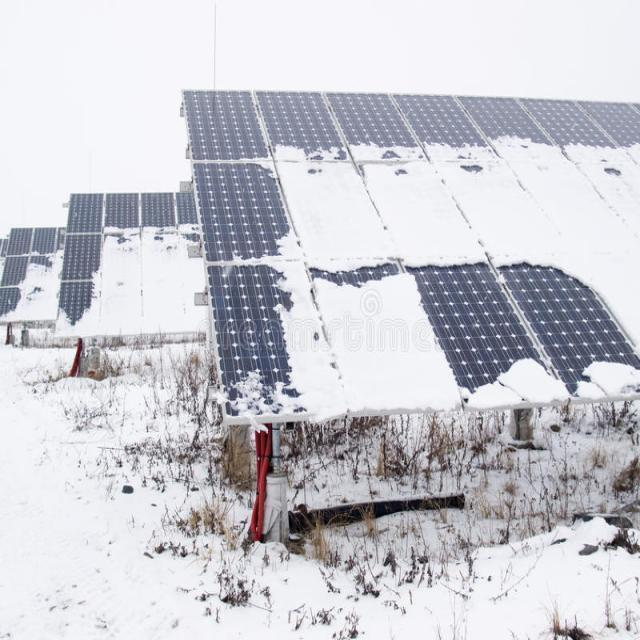Anomaly Solar Panel: (184, 93, 639, 419), (59, 194, 210, 337), (3, 229, 63, 320)
Snow: (241, 131, 640, 361), (206, 260, 335, 422), (309, 263, 447, 413), (55, 220, 214, 337), (442, 355, 574, 410), (0, 246, 63, 328), (572, 361, 640, 399)
